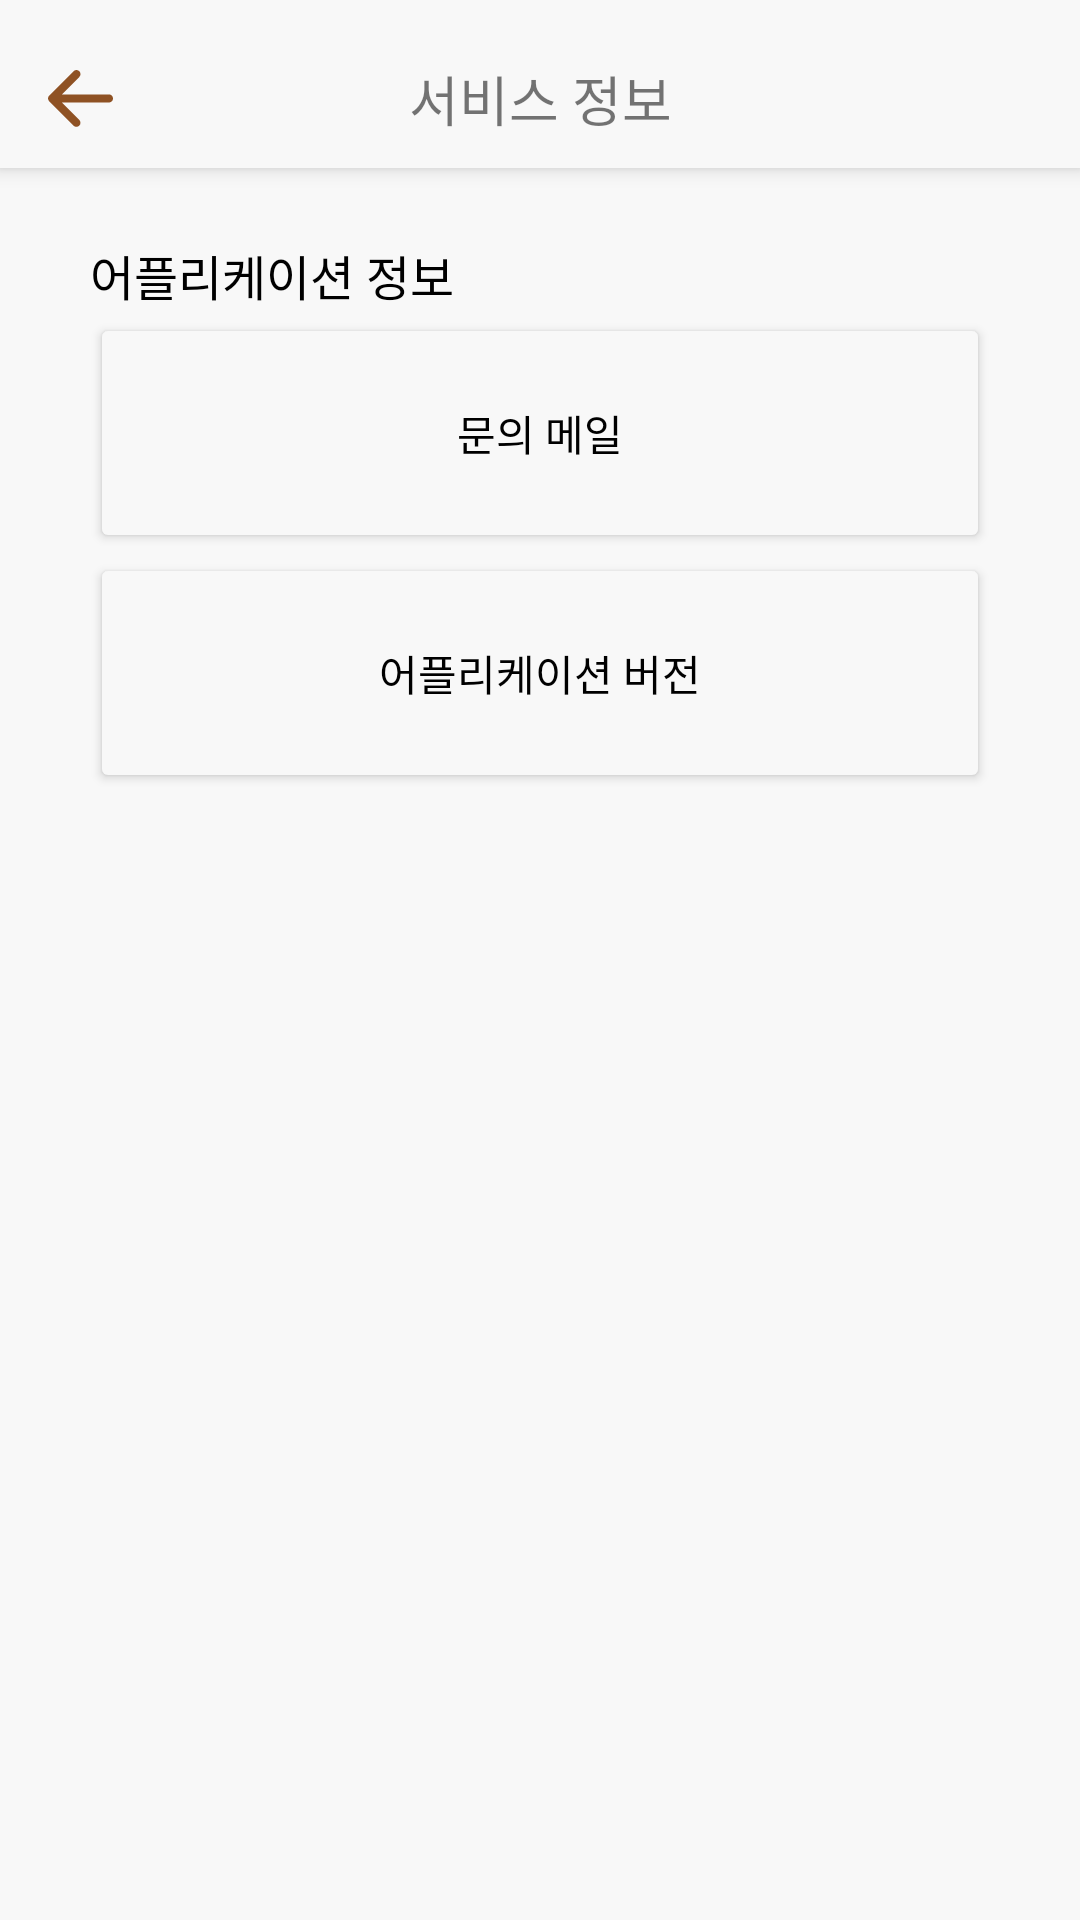

Locate icon controls on the screen. Image size 1080px x 1920px, boxes as Rect(x1, y1, x2, y2).
back: Rect(48, 70, 113, 127)
